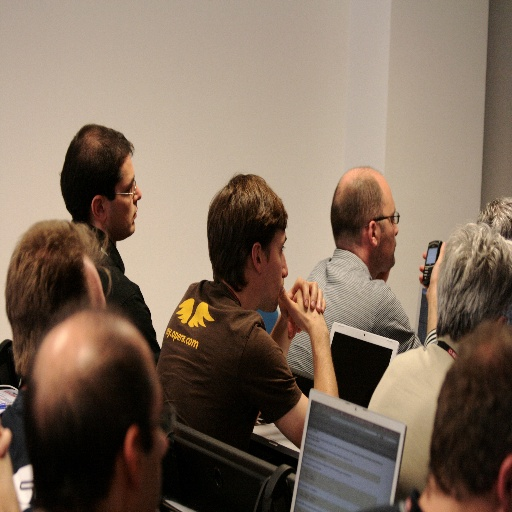hand: (277, 277, 326, 337), (417, 240, 446, 298), (0, 436, 17, 511), (0, 422, 11, 458)
